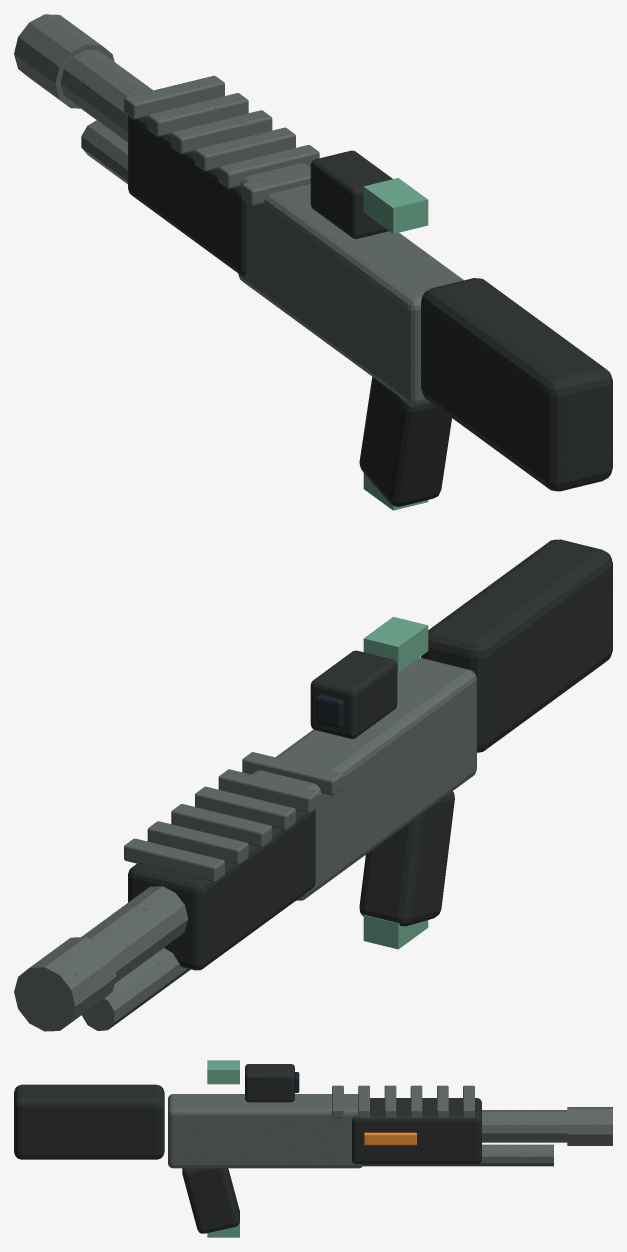
Rendered from shotgun_1.glb.
The picture shows the model from 3 angles, top to bottom: view 1: azimuth 30°, elevation 25°; view 2: azimuth 150°, elevation 25°; view 3: azimuth 270°, elevation 25°; orthographic projection. The views are drawn at different scales.
Parts seen in each view (by area): view 1: Weapon_shotgun, GRADE_1_RAIL_0_1; view 2: Weapon_shotgun, GRADE_1_RAIL_0_1, GRADE_1_RAIL_0_-1; view 3: Weapon_shotgun, GRADE_1_RAIL_0_1, GRADE_1_RAIL_0_-1.
Boxes of the visible parts, bbox=[...] form: Weapon_shotgun: bbox=[14, 14, 612, 506]; GRADE_1_RAIL_0_1: bbox=[363, 178, 428, 233]; Weapon_shotgun: bbox=[14, 539, 612, 1031]; GRADE_1_RAIL_0_1: bbox=[363, 616, 428, 672]; GRADE_1_RAIL_0_-1: bbox=[363, 914, 428, 949]; Weapon_shotgun: bbox=[14, 1064, 612, 1233]; GRADE_1_RAIL_0_1: bbox=[207, 1060, 239, 1084]; GRADE_1_RAIL_0_-1: bbox=[207, 1223, 239, 1237].
Size of the model in its own units: 0.09 by 0.2826 by 0.915.
Materials: 5 (4 with a texture image).
